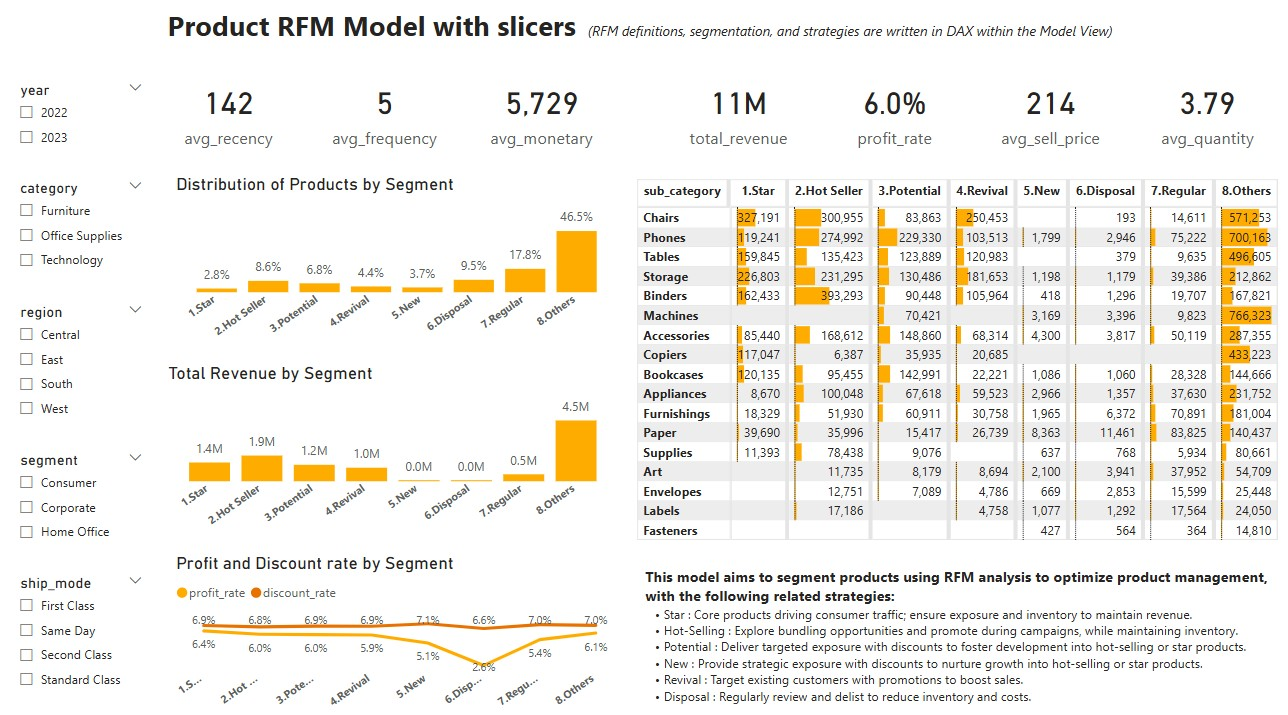

This screenshot's page, from the dashboard's own definition file:
{"tool":"powerbi","page":{"name":"Page 1","canvas":[1280,720],"ordinal":0},"visuals":[{"type":"slicer","fields":{"Values":["orders.category"]},"box":[24,184.2,144,104],"z":0},{"type":"slicer","fields":{"Values":["orders.region"]},"box":[24,304.2,144,128],"z":1000},{"type":"slicer","fields":{"Values":["orders.segment"]},"box":[24,448.2,144,104],"z":2000},{"type":"slicer","fields":{"Values":["orders.ship_mode"]},"box":[24.2,568.2,144,128],"z":3000},{"type":"slicer","fields":{"Values":["orders.year"]},"box":[24,88.2,144,80],"z":4000},{"type":"clusteredColumnChart","title":"Distribution of Products by Segment","fields":{"Category":["RFM.Segment"],"Y":["CountNonNull(RFM.product_id)"]},"box":[184,184,440,168],"z":5000},{"type":"clusteredColumnChart","title":"Total Revenue by Segment","fields":{"Category":["RFM.Segment"],"Y":["orders.total_revenue"]},"box":[176,368,448,168],"z":6000},{"type":"lineChart","title":"Profit and Discount rate by Segment","fields":{"Category":["RFM.Segment"],"Y":["orders.profit_rate","orders.discount_rate"]},"box":[184,552,440,160],"z":7000},{"type":"pivotTable","fields":{"Rows":["orders.sub_category"],"Columns":["RFM.Segment"],"Values":["orders.total_revenue"]},"box":[632,184,640,376],"z":8000},{"type":"card","fields":{"Values":["RFM.avg_recency"]},"box":[183.8,80,112,88],"z":9000},{"type":"card","fields":{"Values":["RFM.avg_frequency"]},"box":[335.8,80,112,88],"z":10000},{"type":"card","fields":{"Values":["RFM.avg_monetary"]},"box":[487.8,80,112,88],"z":11000},{"type":"card","fields":{"Values":["orders.total_revenue"]},"box":[679.8,79.8,112,88],"z":12000},{"type":"card","fields":{"Values":["orders.profit_rate"]},"box":[831.8,79.8,112,88],"z":13000},{"type":"card","fields":{"Values":["orders.avg_sell_price"]},"box":[983.8,79.8,112,88],"z":14000},{"type":"card","fields":{"Values":["orders.avg_quantity"]},"box":[1136,79.8,112,88],"z":15000},{"type":"textbox","box":[0,16,1280,48],"z":16000},{"type":"textbox","box":[640,560,632,144],"z":17000}]}

Visuals, with their boxes in screenshot pixels (x1, y1, x2, y2), scaled from the page's 1280x720 canvas onto the 1288x715 screenshot:
slicer - orders.category: (24,183,169,286)
slicer - orders.region: (24,302,169,429)
slicer - orders.segment: (24,445,169,548)
slicer - orders.ship_mode: (24,564,169,691)
slicer - orders.year: (24,88,169,167)
"Distribution of Products by Segment" clusteredColumnChart: (185,183,628,350)
"Total Revenue by Segment" clusteredColumnChart: (177,365,628,532)
"Profit and Discount rate by Segment" lineChart: (185,548,628,707)
pivotTable - orders.sub_category x RFM.Segment: (636,183,1280,556)
card - RFM.avg_recency: (185,79,298,167)
card - RFM.avg_frequency: (338,79,451,167)
card - RFM.avg_monetary: (491,79,604,167)
card - orders.total_revenue: (684,79,797,167)
card - orders.profit_rate: (837,79,950,167)
card - orders.avg_sell_price: (990,79,1103,167)
card - orders.avg_quantity: (1143,79,1256,167)
textbox: (0,16,1287,64)
textbox: (644,556,1280,699)
